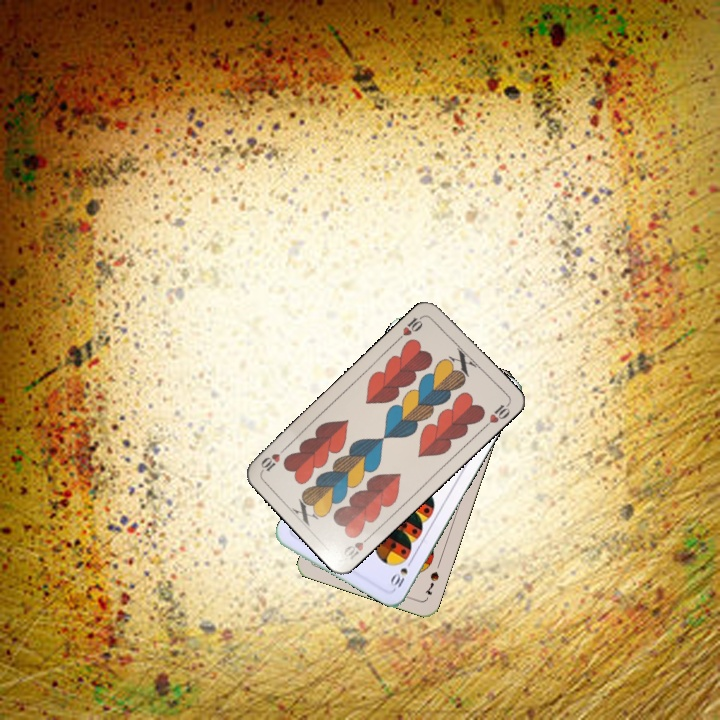H10: (339, 530, 374, 562), (394, 311, 427, 343)
S10: (387, 555, 415, 592)
S7: (421, 567, 442, 597)
